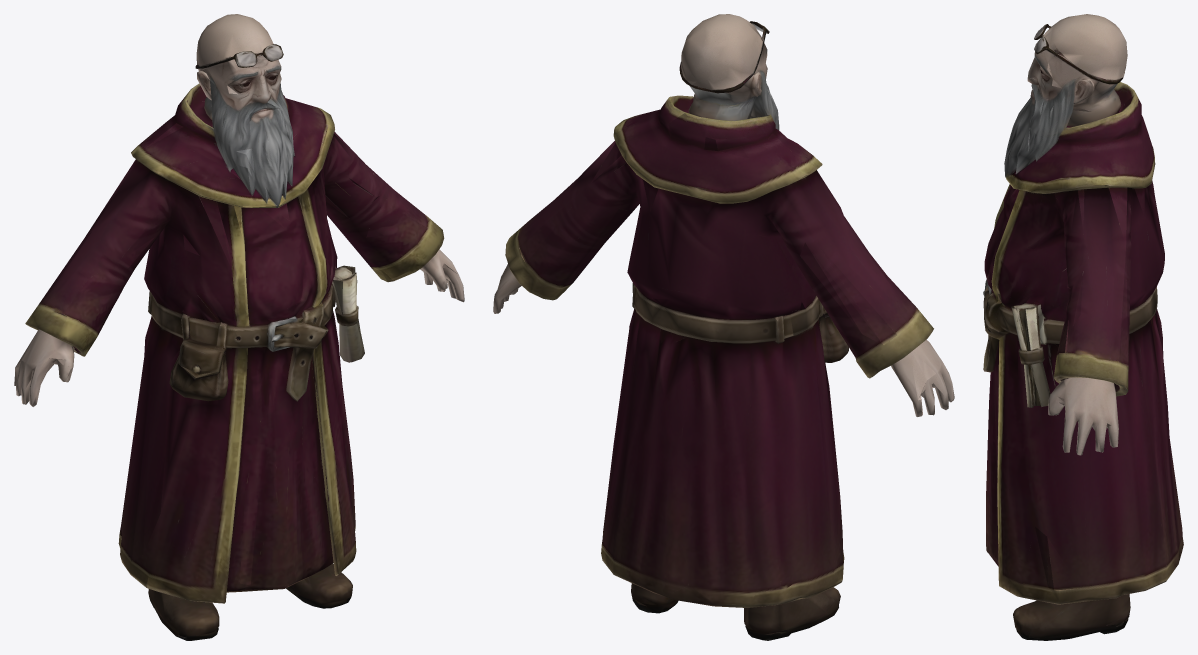
File: MW_DM_Wizard.fbx
The picture shows the model from 3 angles, left to right: view 1: azimuth 30°, elevation 25°; view 2: azimuth 150°, elevation 25°; view 3: azimuth 270°, elevation 25°; orthographic projection. The views are drawn at different scales.
Visible parts, largest first — view 1: Mesh_0; view 2: Mesh_0; view 3: Mesh_0.
Part boxes in pixels (<box>): Mesh_0: <box>14,14,464,640</box>; Mesh_0: <box>493,14,954,640</box>; Mesh_0: <box>983,14,1183,640</box>.
Bounding box in the file's own units: 149 × 190 × 59.38.
Materials: 1 (1 with a texture image).
